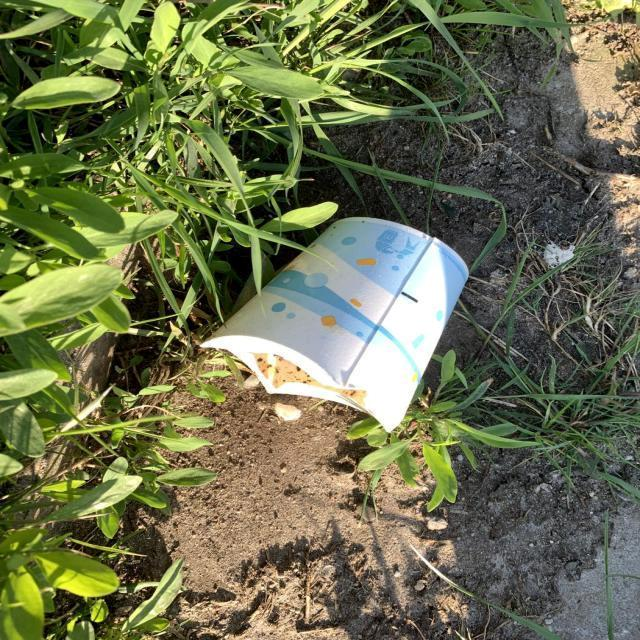Paper: (195, 213, 470, 434)
